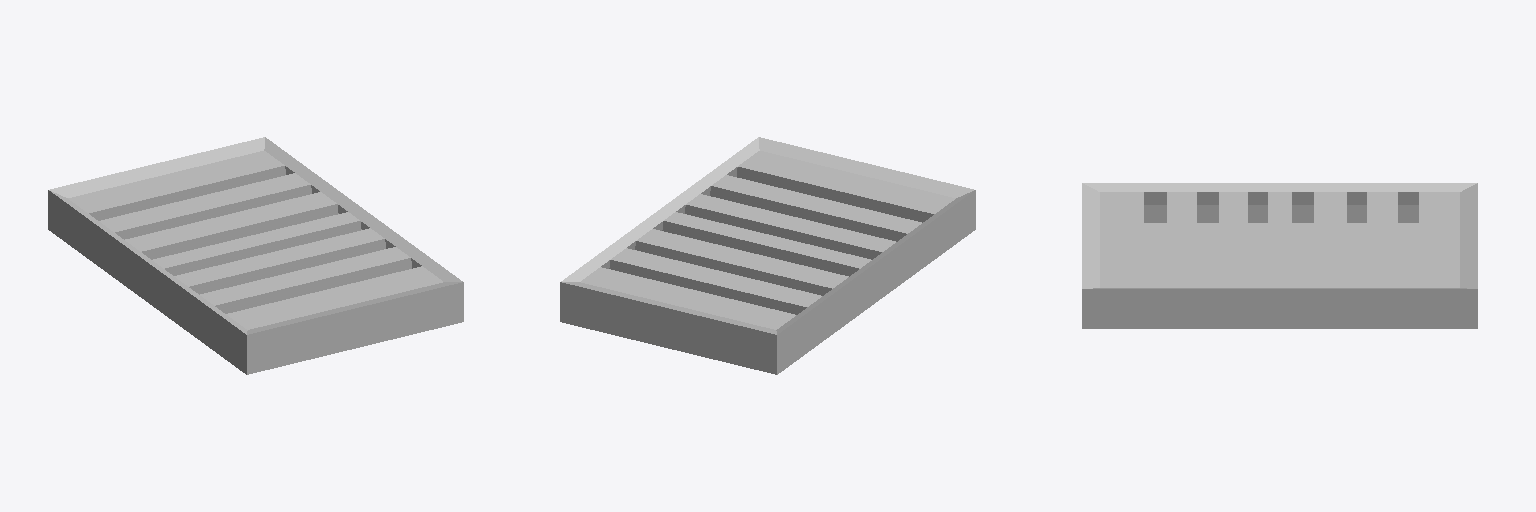
File: sewer_uv.obj
The picture shows the model from 3 angles: view 1: azimuth 30°, elevation 25°; view 2: azimuth 150°, elevation 25°; view 3: azimuth 270°, elevation 25°; orthographic projection.
Parts seen in each view (by area): view 1: SewerDrain Flooring; view 2: SewerDrain Flooring; view 3: SewerDrain Flooring.
Part boxes in pixels (left/top/right/bottom): SewerDrain Flooring: left=48, top=137, right=463, bottom=374; SewerDrain Flooring: left=560, top=137, right=975, bottom=374; SewerDrain Flooring: left=1082, top=183, right=1477, bottom=328.
Bounding box in the file's own units: 1.36 × 0.2409 × 2.16.